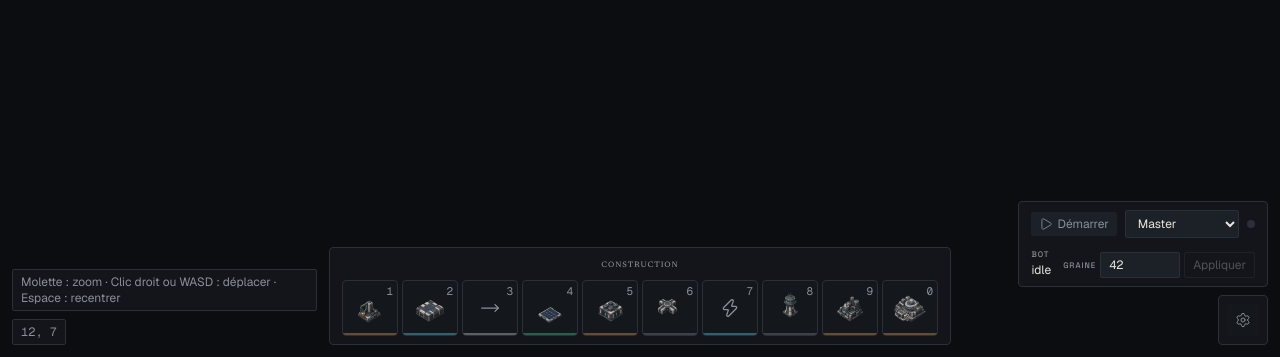
GameHUD › keeps the console toggle working via settings popover
Note: Open settings popover, then click Console
Click the button named "Paramètres".
click(1243, 320)  # box [1227, 304, 1259, 336]
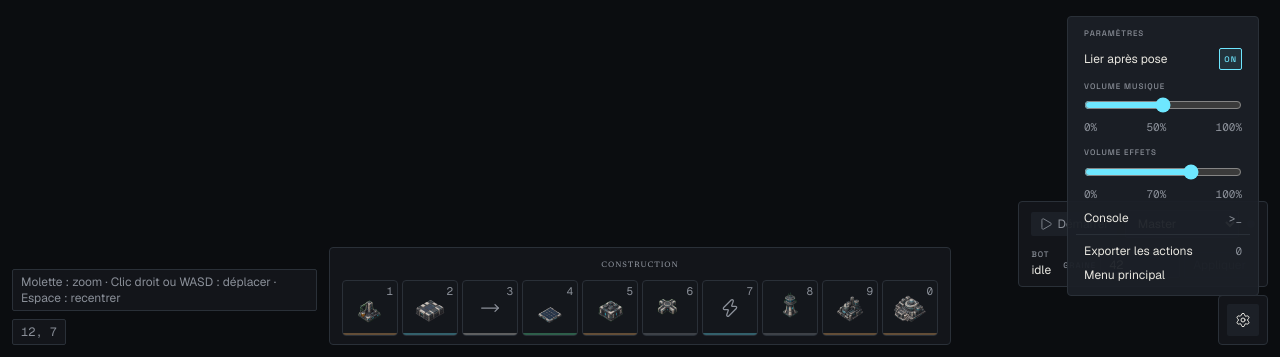
Click the button "Console >_".
click(1163, 218)  # box [1076, 206, 1250, 230]
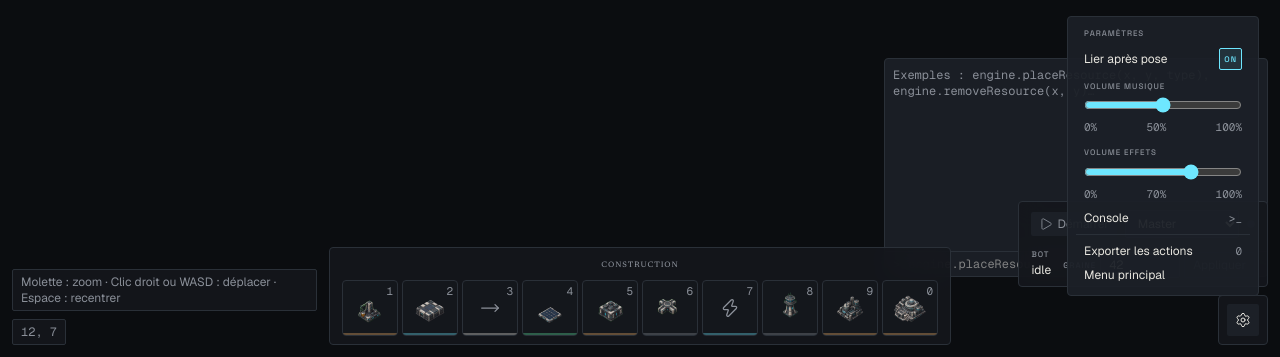
Expected: the field with placeholder "engine.placeResource(10, 10, 1)" is shown, [908, 252, 1267, 276]
